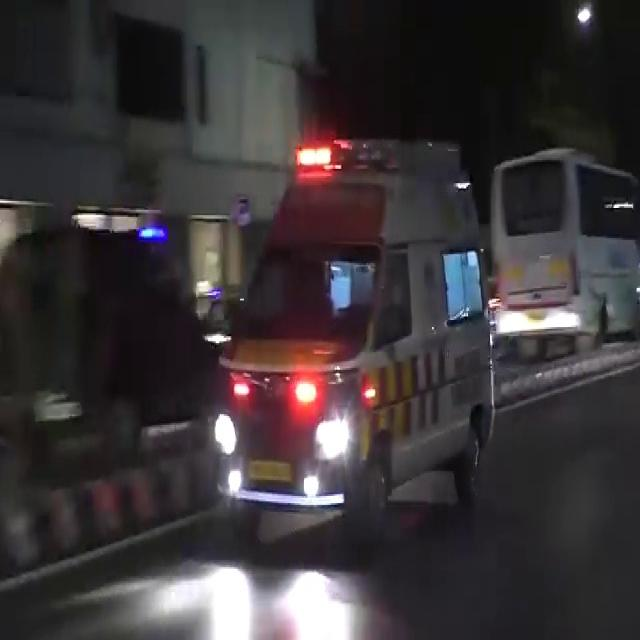ambulance: (216, 143, 490, 501)
